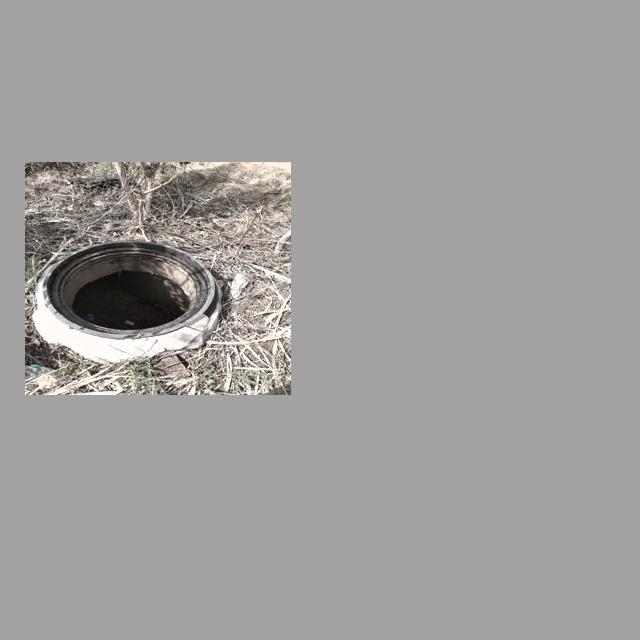lose: (42, 239, 216, 339)
